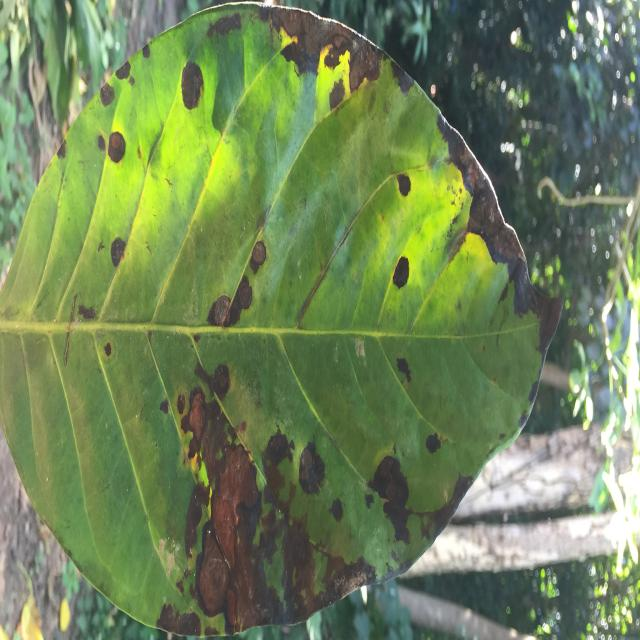Enfermedad-Mancha-de-hierro: (0, 5, 553, 638)
